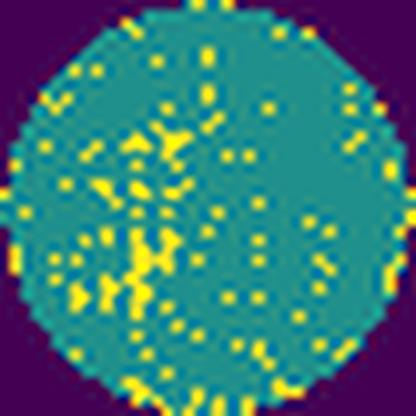Edge-Loc: (119, 227, 182, 323), (152, 117, 200, 155)
